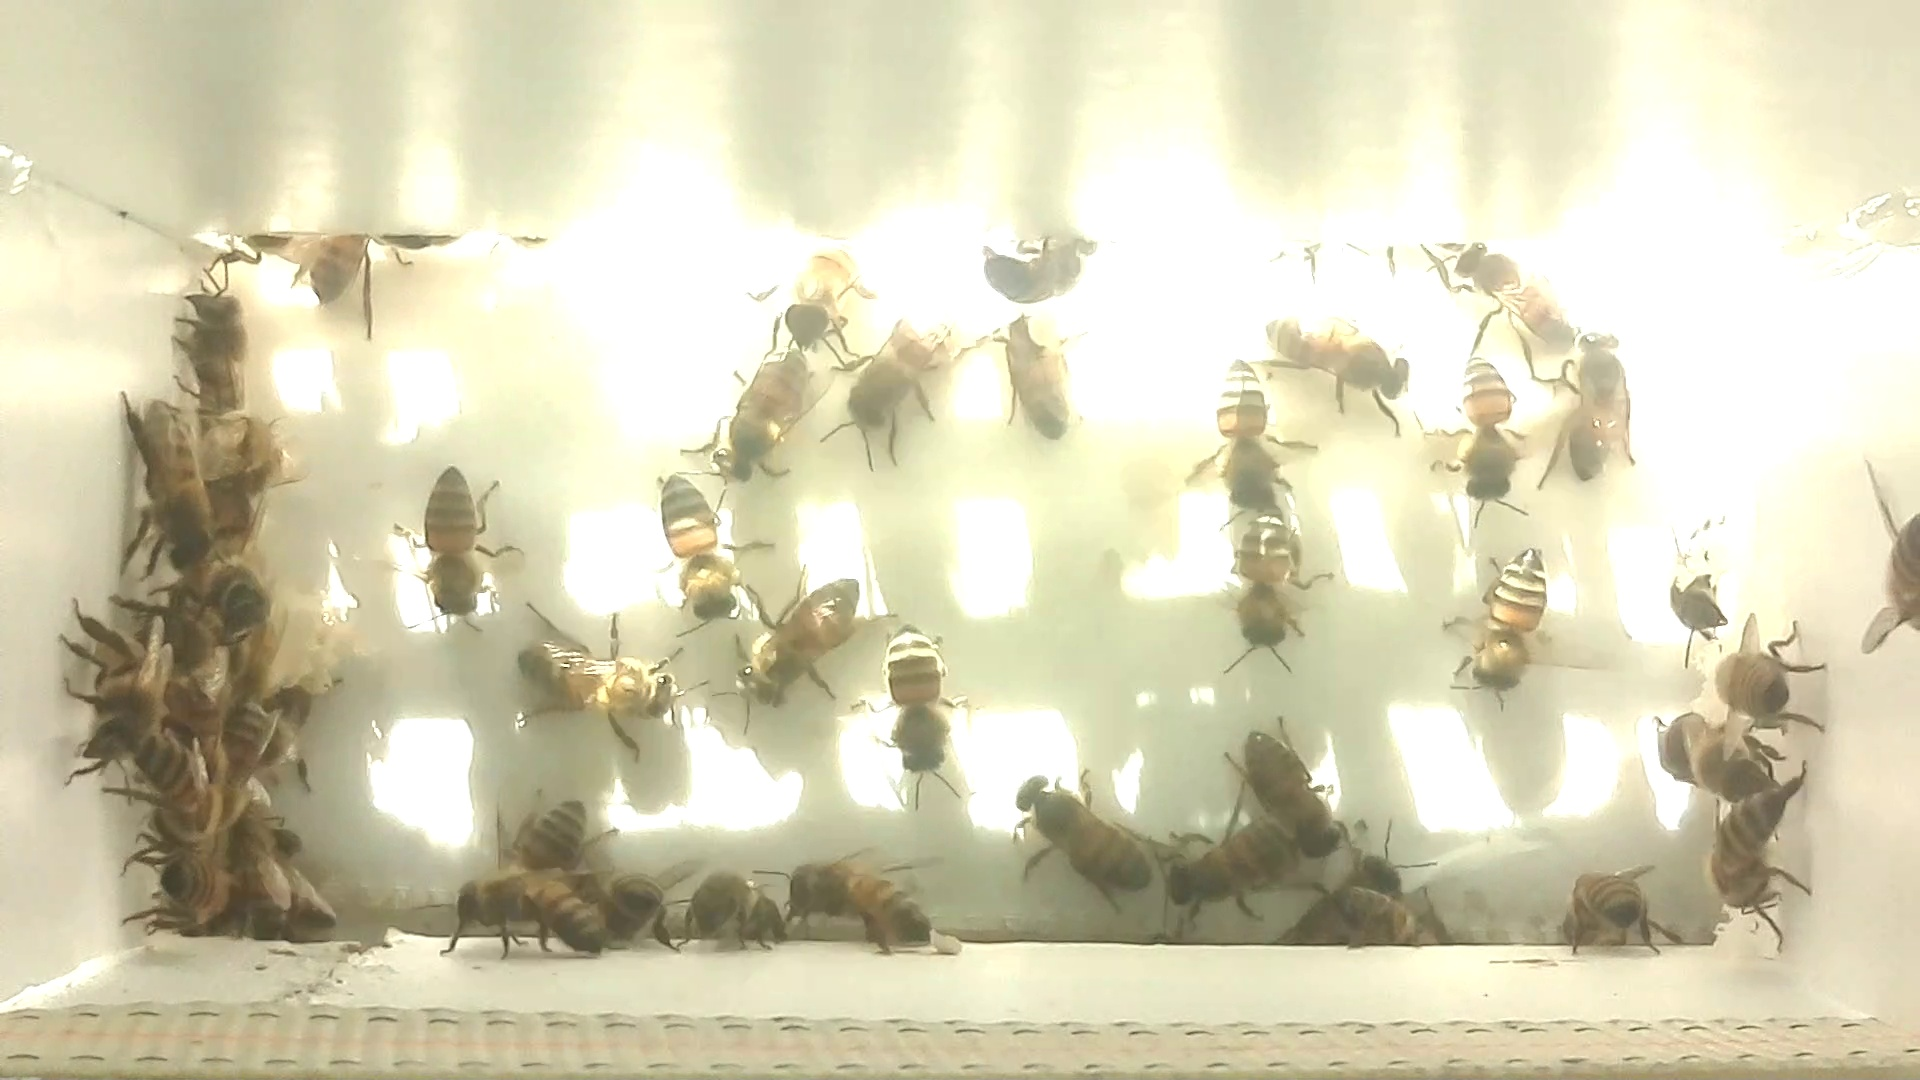bee: (495, 595, 696, 760), (705, 541, 880, 731), (849, 599, 998, 808), (988, 760, 1166, 920), (378, 444, 529, 634), (836, 290, 988, 473), (1693, 765, 1834, 961), (756, 835, 957, 963), (1188, 349, 1327, 535), (1432, 524, 1560, 721), (410, 853, 615, 976), (1269, 814, 1444, 953), (633, 460, 775, 632), (1255, 298, 1424, 440), (1424, 338, 1545, 534), (1530, 310, 1652, 502), (51, 591, 160, 806), (1688, 597, 1840, 750), (1222, 713, 1373, 868), (692, 335, 832, 492), (111, 388, 225, 578), (1135, 814, 1309, 926), (1440, 231, 1593, 357), (985, 298, 1105, 446), (166, 255, 268, 426), (1549, 851, 1693, 969), (185, 650, 290, 808), (756, 235, 880, 361), (1646, 708, 1791, 814), (973, 208, 1116, 314), (671, 835, 789, 961), (589, 841, 709, 953), (125, 823, 237, 938), (280, 224, 386, 340), (1640, 525, 1735, 651), (173, 553, 276, 669), (485, 783, 607, 869), (127, 713, 218, 823)
